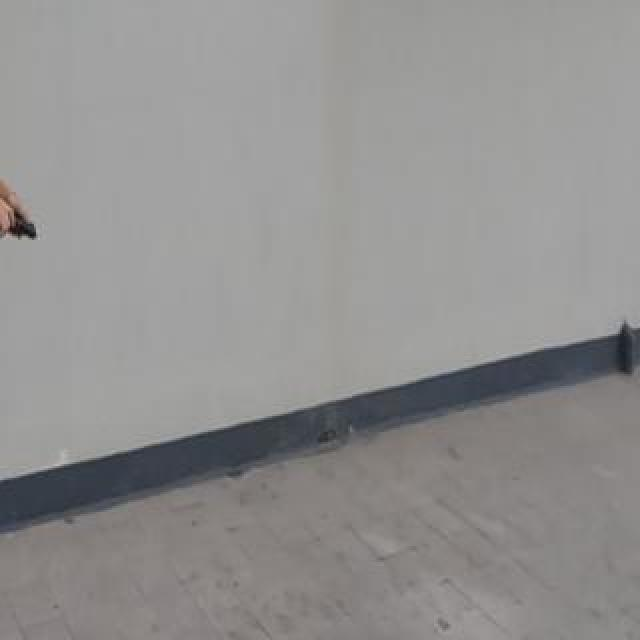Guns: (0, 194, 46, 252)
